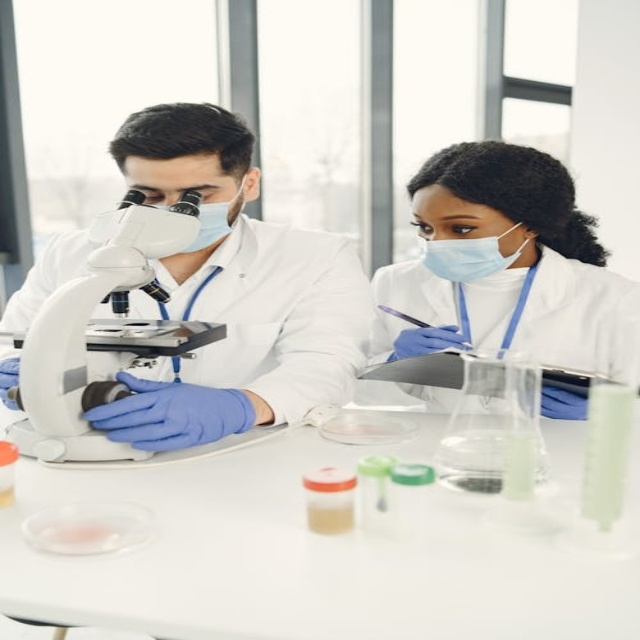Guantes: (88, 367, 255, 451), (392, 318, 468, 361), (520, 378, 585, 425)
Mascara: (419, 222, 530, 283), (168, 180, 240, 252)
Sin_gafas: (407, 205, 500, 241), (129, 181, 170, 203)
